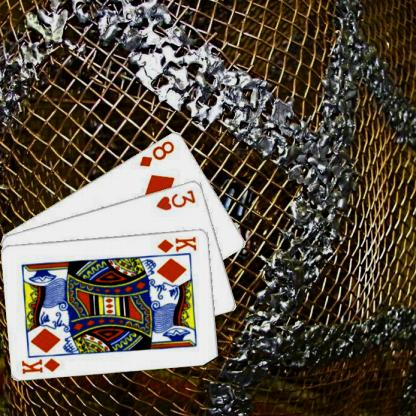3H: (154, 187, 198, 212)
8D: (136, 138, 176, 168)
KD: (154, 233, 198, 254), (19, 356, 61, 374)
